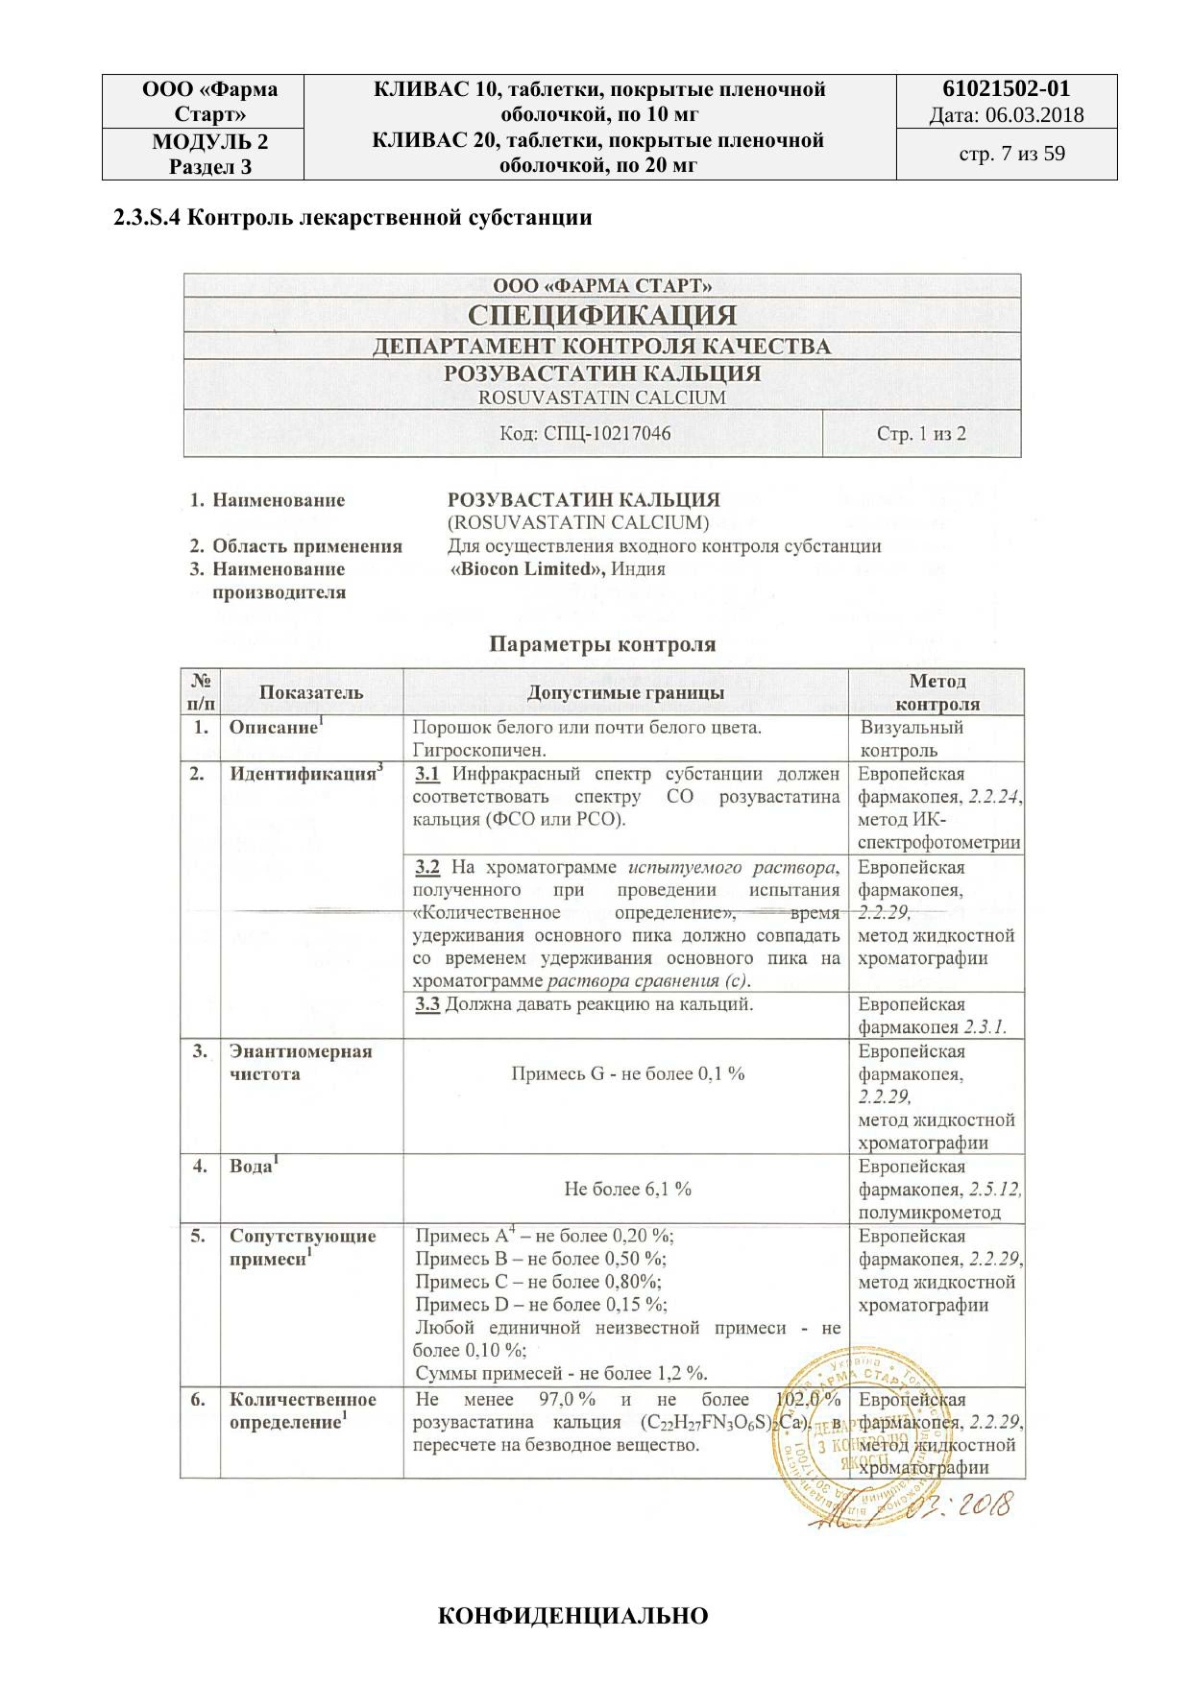full_lined: (179, 666, 1028, 1481)
merged_cells: (181, 272, 1022, 461), (101, 74, 1118, 181)
